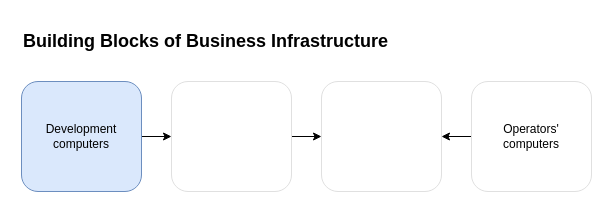
This 609x209 diagram has some shape labels left out. Each missing label, with the centre of its shape:
"Production servers (services + data)" goes at [381,136].
"Software factory" goes at [231,136].
